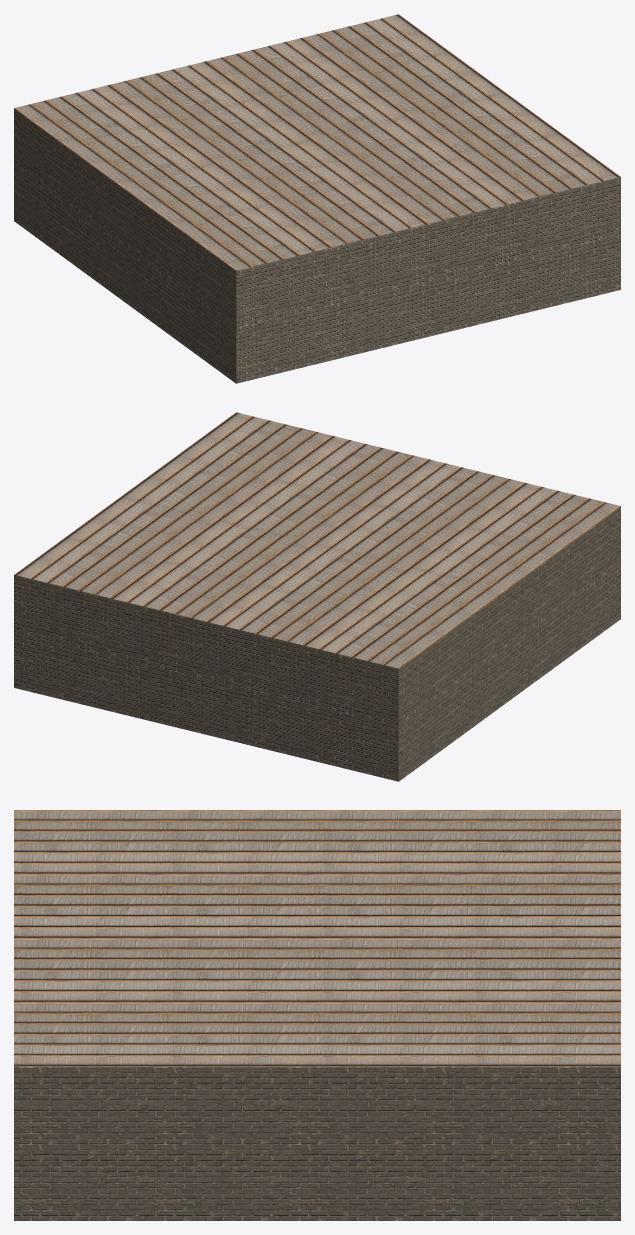
3 renders of one model, top to bottom at view 1: azimuth 30°, elevation 25°; view 2: azimuth 150°, elevation 25°; view 3: azimuth 270°, elevation 25°, orthographic. The views are drawn at different scales.
Visible parts, largest first — view 1: room_Cube.001; view 2: room_Cube.001; view 3: room_Cube.001.
Boxes of the visible parts, bbox=[...] form: room_Cube.001: bbox=[14, 14, 620, 383]; room_Cube.001: bbox=[14, 412, 620, 781]; room_Cube.001: bbox=[14, 810, 620, 1220].
Size of the model in its own units: 8.32 by 2.34 by 8.32.
